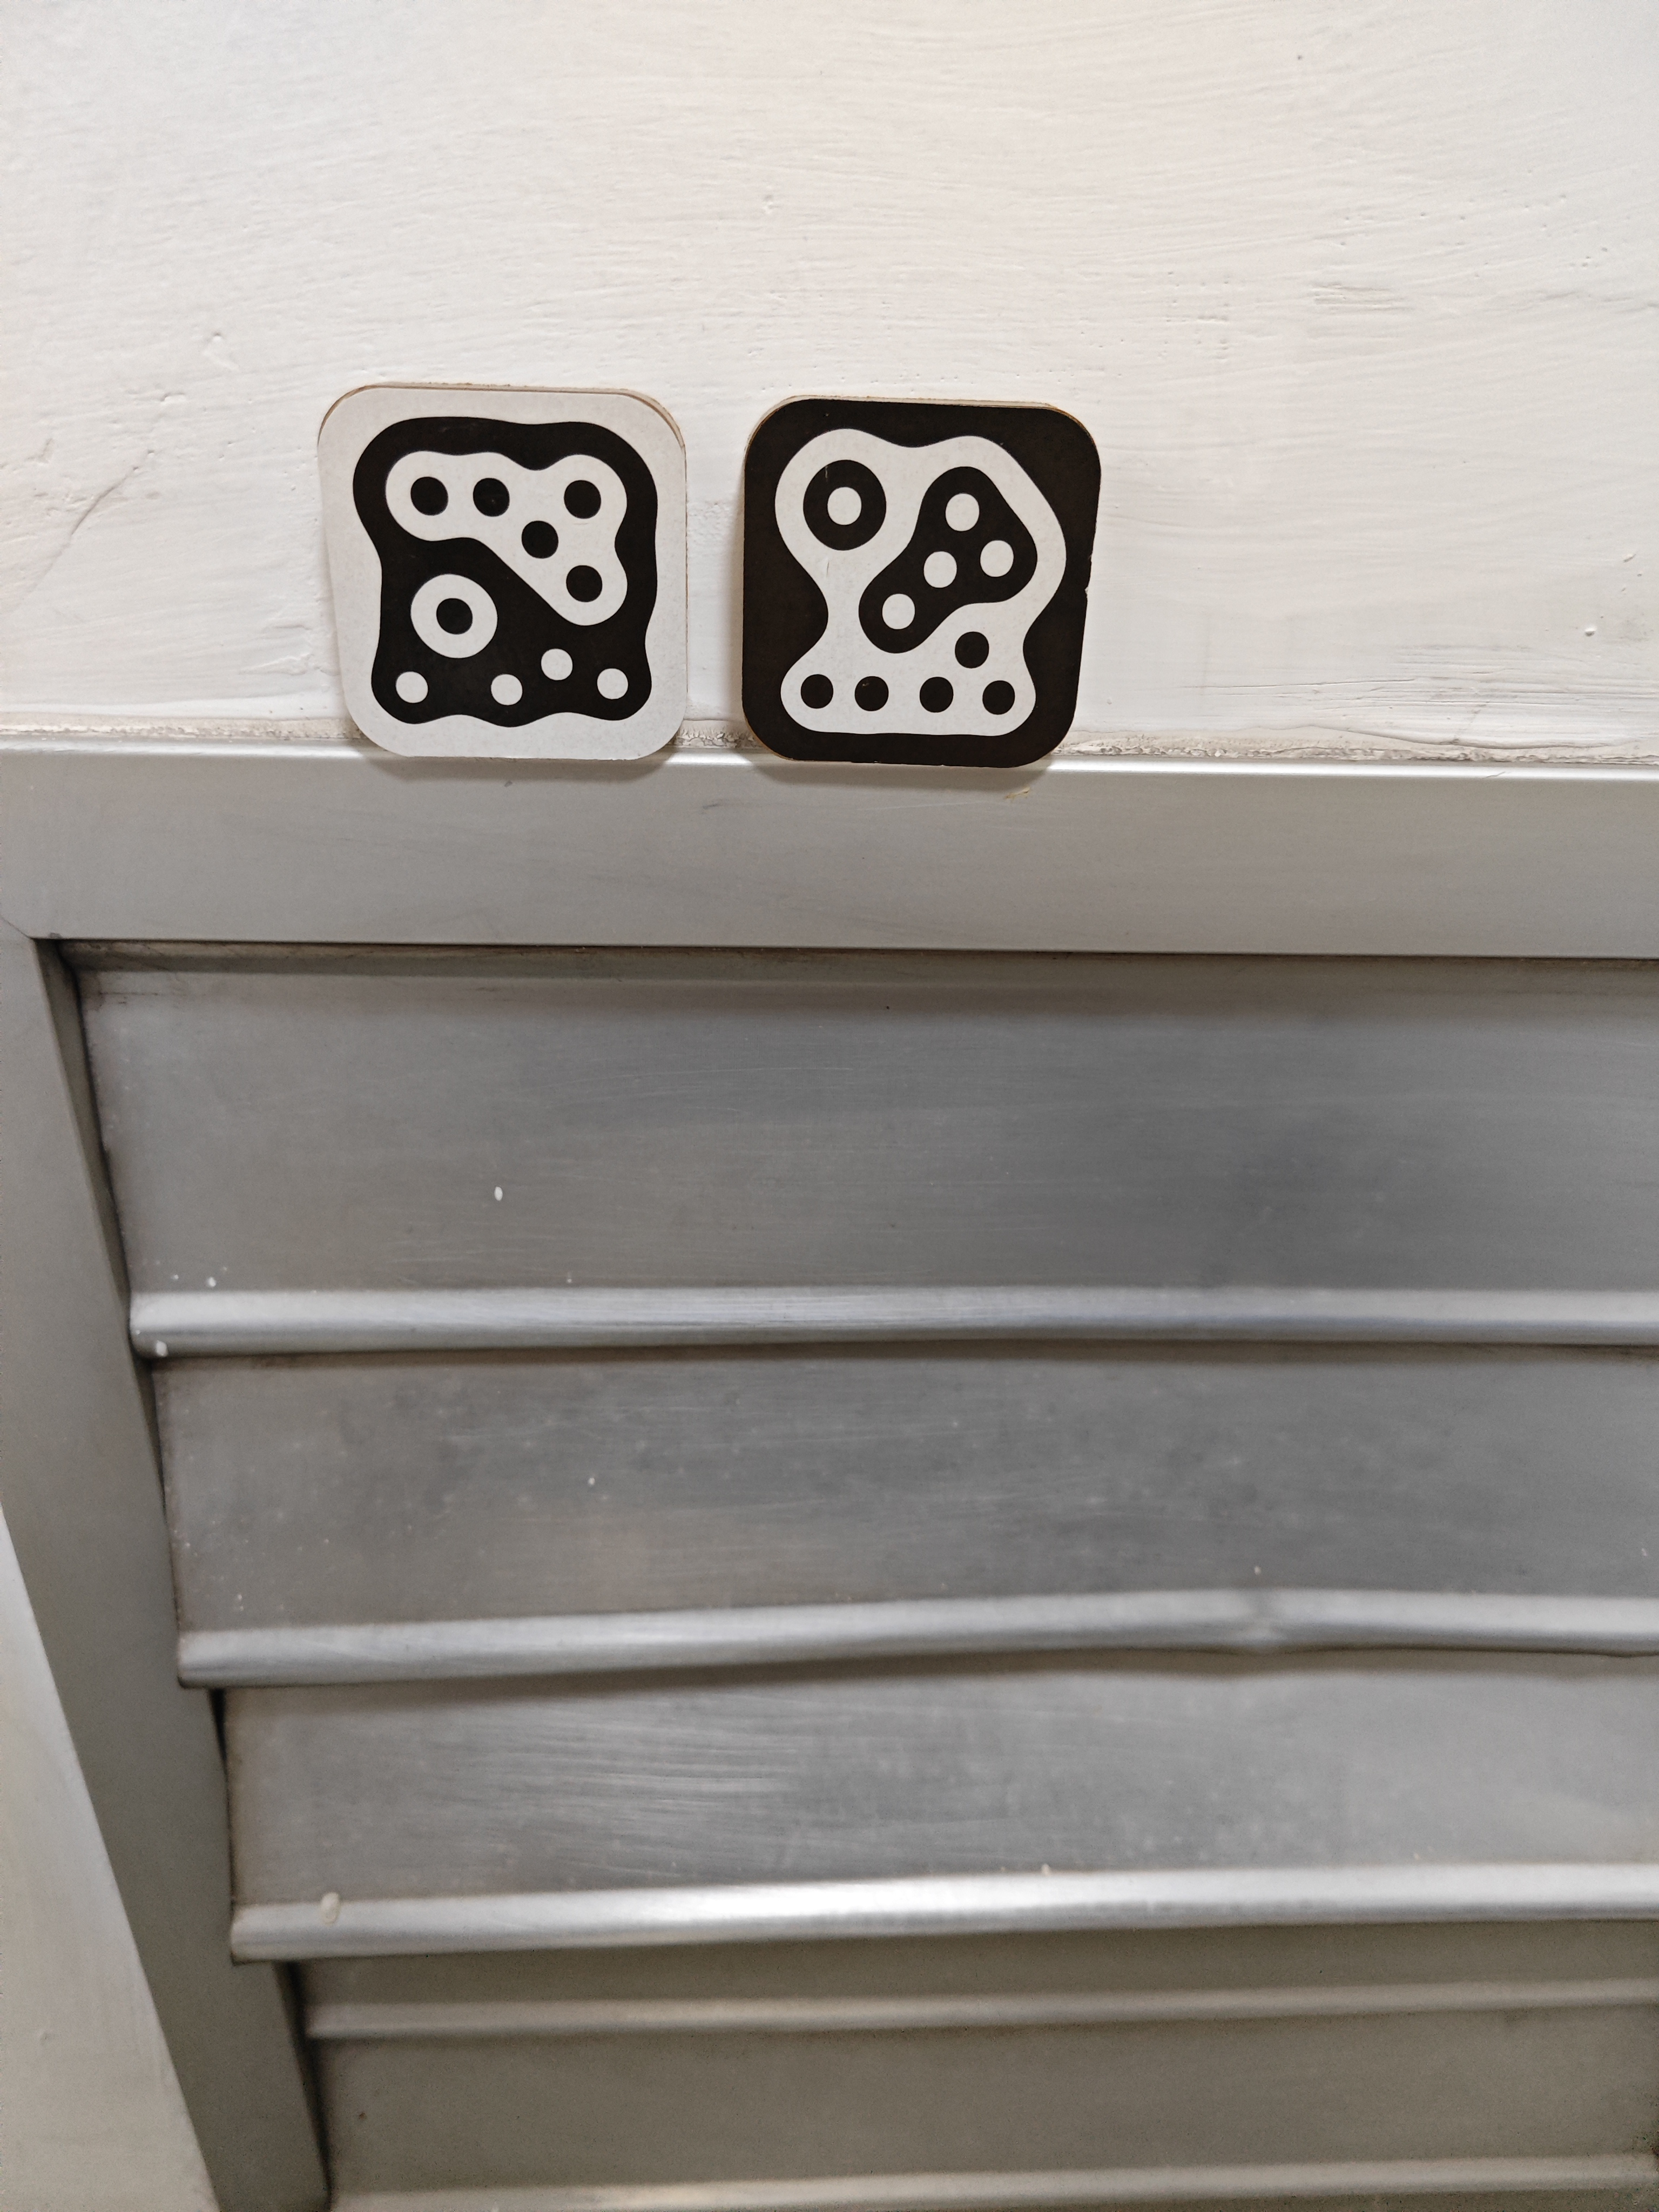mark1: (345, 415, 662, 726)
mark2: (763, 416, 1068, 751)
